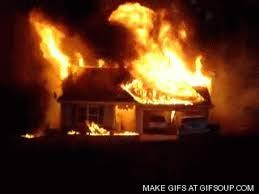fire: (110, 2, 212, 107), (28, 10, 87, 86)
